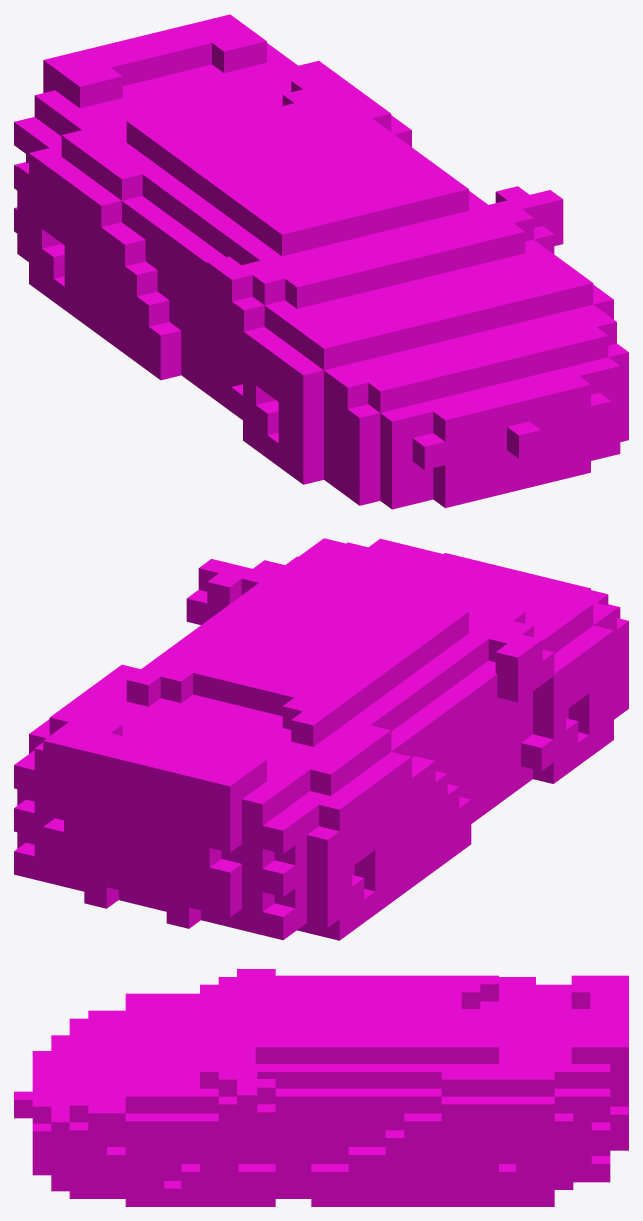
The model's file is CAR Model by Ignition Labs - 5zUWP5UsLg-.glb.
The picture shows the model from 3 angles, top to bottom: view 1: azimuth 30°, elevation 25°; view 2: azimuth 150°, elevation 25°; view 3: azimuth 270°, elevation 25°; orthographic projection. The views are drawn at different scales.
Visible parts, largest first — view 1: col_wall_03, col_wall_01, col_wall_02, col_roof_02, col_wall_29, col_block_05, col_roof_09, col_wall_07, col_roof_25, col_block_32, col_wall_51, col_floor_01 (+76 smaller); view 2: col_roof_02, col_wall_01, col_wall_22, col_floor_01, col_wall_51, col_roof_32, col_roof_25, col_roof_52, col_block_14, col_block_05, col_roof_48, col_wall_05 (+74 smaller); view 3: col_wall_14, col_floor_04, col_wall_15, col_wall_42, col_wall_37, col_wall_02, col_roof_42, col_wall_53, col_floor_06, col_block_04, col_wall_41, col_wall_38 (+93 smaller).
Part boxes in pixels (<box>): col_wall_03: <box>433,376,590,508</box>; col_wall_01: <box>180,238,351,419</box>; col_wall_02: <box>380,357,620,509</box>; col_roof_02: <box>64,19,233,85</box>; col_wall_29: <box>373,290,531,354</box>; col_block_05: <box>278,353,323,463</box>; col_roof_09: <box>306,243,442,303</box>; col_wall_07: <box>324,394,380,483</box>; col_roof_25: <box>201,213,319,308</box>; col_block_32: <box>406,211,504,273</box>; col_wall_51: <box>29,148,121,228</box>; col_floor_01: <box>29,261,181,380</box>; col_roof_02: <box>64,728,233,868</box>; col_wall_01: <box>430,603,580,823</box>; col_wall_22: <box>43,818,241,917</box>; col_floor_01: <box>297,821,471,940</box>; col_wall_51: <box>318,752,411,832</box>; col_roof_32: <box>195,632,363,685</box>; col_roof_25: <box>409,607,525,703</box>; col_roof_52: <box>192,663,308,716</box>; col_block_14: <box>307,822,352,905</box>; col_block_05: <box>568,625,613,735</box>; col_roof_48: <box>291,685,361,746</box>; col_wall_05: <box>354,796,471,891</box>; col_wall_14: <box>125,1080,312,1182</box>; col_floor_04: <box>348,1188,554,1206</box>; col_wall_15: <box>367,1164,573,1189</box>; col_wall_42: <box>125,1113,201,1156</box>; col_wall_37: <box>516,1113,573,1173</box>; col_wall_02: <box>51,1035,69,1191</box>; col_roof_42: <box>200,1063,349,1088</box>; col_wall_53: <box>441,1096,554,1122</box>; col_floor_06: <box>125,1181,275,1206</box>; col_block_04: <box>69,1122,108,1198</box>; col_wall_41: <box>385,1130,516,1156</box>; col_wall_38: <box>367,1147,498,1173</box>.
Size of the model in its own units: 246 by 124 by 506.
